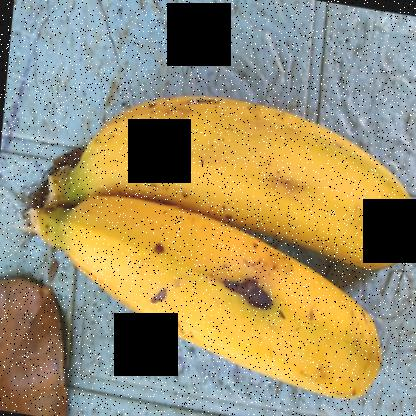freshripe: (71, 74, 415, 264)
ripe: (69, 210, 416, 415)
